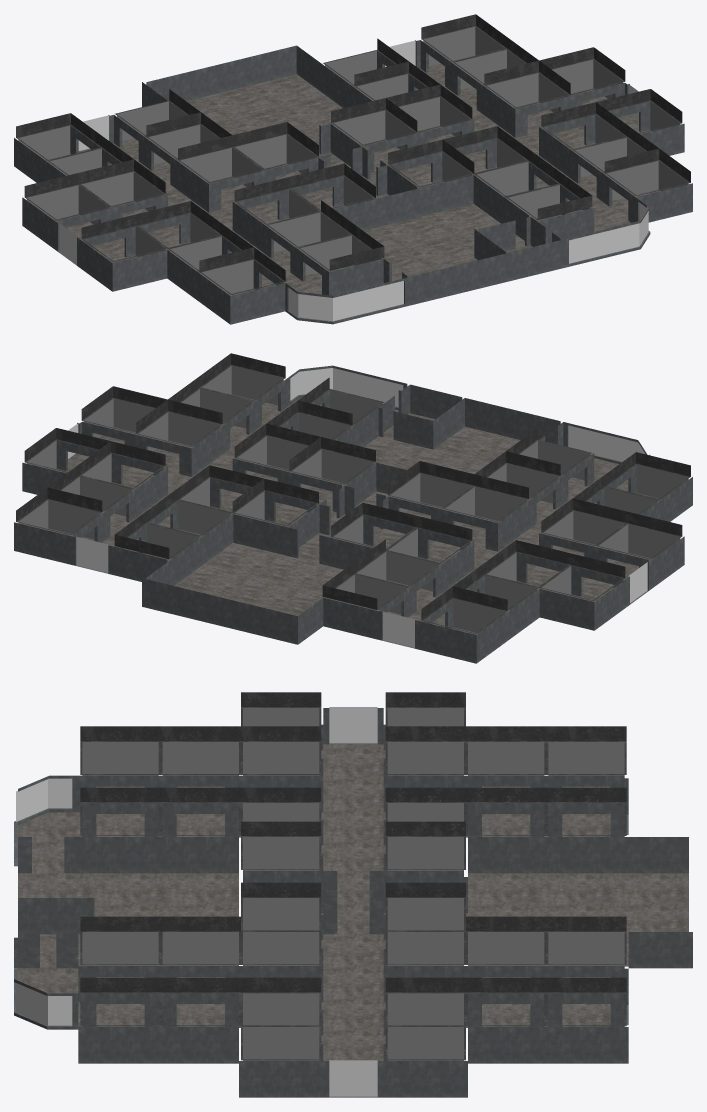
File: floor4.glb
3 views of the same model, one above another, from view 1: azimuth 30°, elevation 25°; view 2: azimuth 150°, elevation 25°; view 3: azimuth 270°, elevation 25° (orthographic). The views are drawn at different scales.
Parts seen in each view (by area): view 1: Floor4 -col; view 2: Floor4 -col; view 3: Floor4 -col.
Boxes of the visible parts, bbox=[...] form: Floor4 -col: bbox=[14, 14, 692, 324]; Floor4 -col: bbox=[14, 353, 692, 663]; Floor4 -col: bbox=[14, 692, 692, 1097].
Size of the model in its own units: 104 by 7 by 84.5.
Materials: 5 (3 with a texture image).
